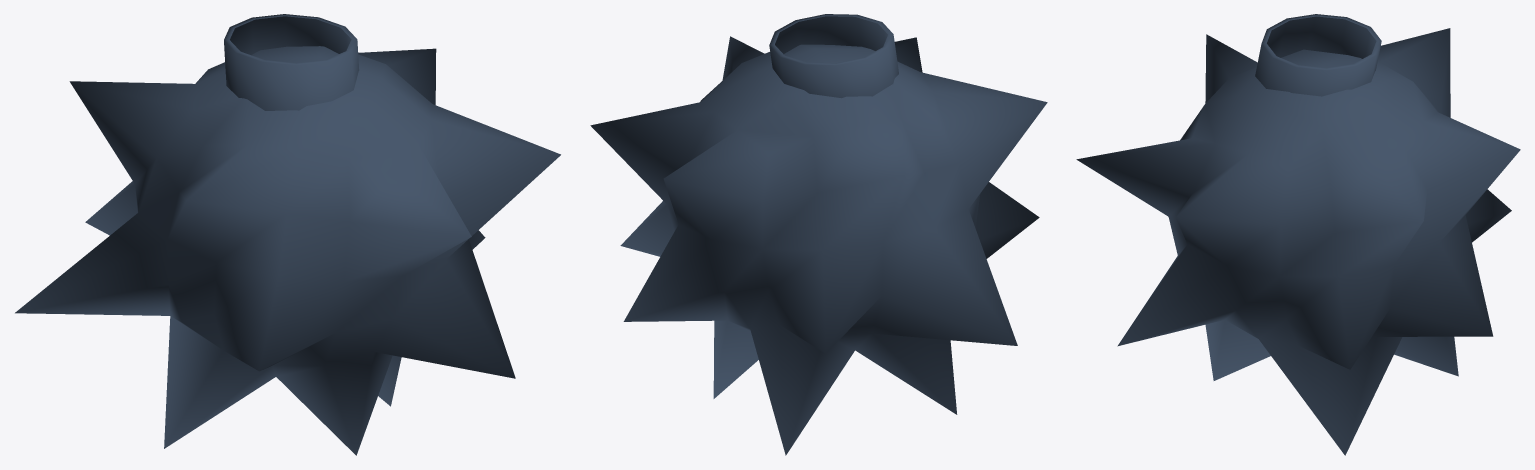
Rendered from Gloves_Morgen.fbx.
3 renders of one model, left to right at view 1: azimuth 30°, elevation 25°; view 2: azimuth 150°, elevation 25°; view 3: azimuth 270°, elevation 25°, orthographic. The views are drawn at different scales.
Parts seen in each view (by area): view 1: Gloves_Morgen.001; view 2: Gloves_Morgen.001; view 3: Gloves_Morgen.001.
Boxes of the visible parts, x1=… form: Gloves_Morgen.001: x1=15, y1=14, x2=560, y2=455; Gloves_Morgen.001: x1=590, y1=14, x2=1047, y2=455; Gloves_Morgen.001: x1=1076, y1=14, x2=1520, y2=455.
Bounding box in the file's own units: 45.67 × 39.62 × 43.53.
